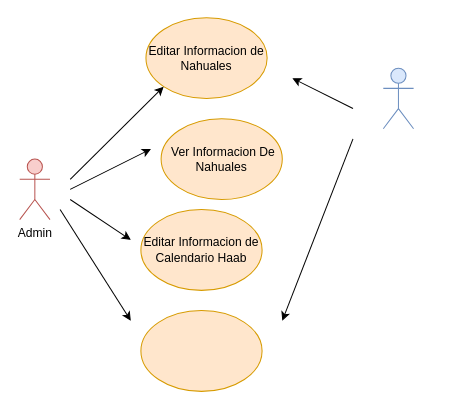
Some shapes in this 449 by 409 pixel diagram are drawn without their labels. Each missing label, with the centre of its shape:
"Estudariante" belongs at point (398, 98).
"Ver Calendario Haab" belongs at point (201, 350).
